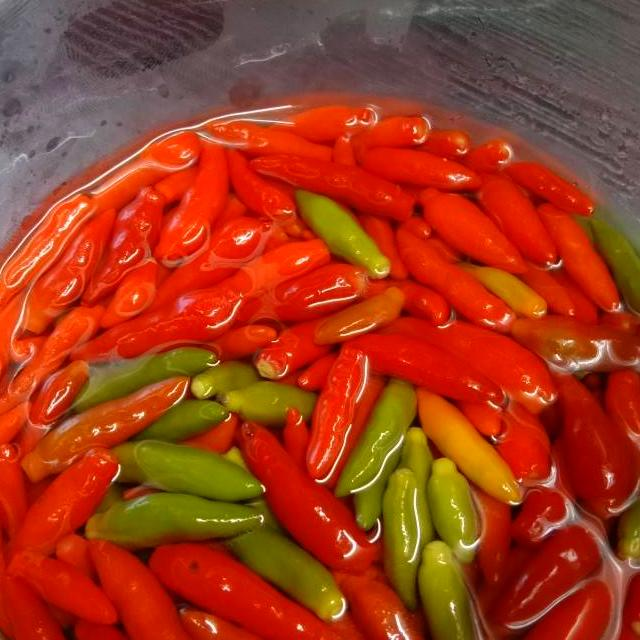chili_pepper: (237, 422, 379, 572), (85, 493, 262, 551), (89, 542, 193, 640), (113, 441, 263, 502), (418, 542, 477, 640)
